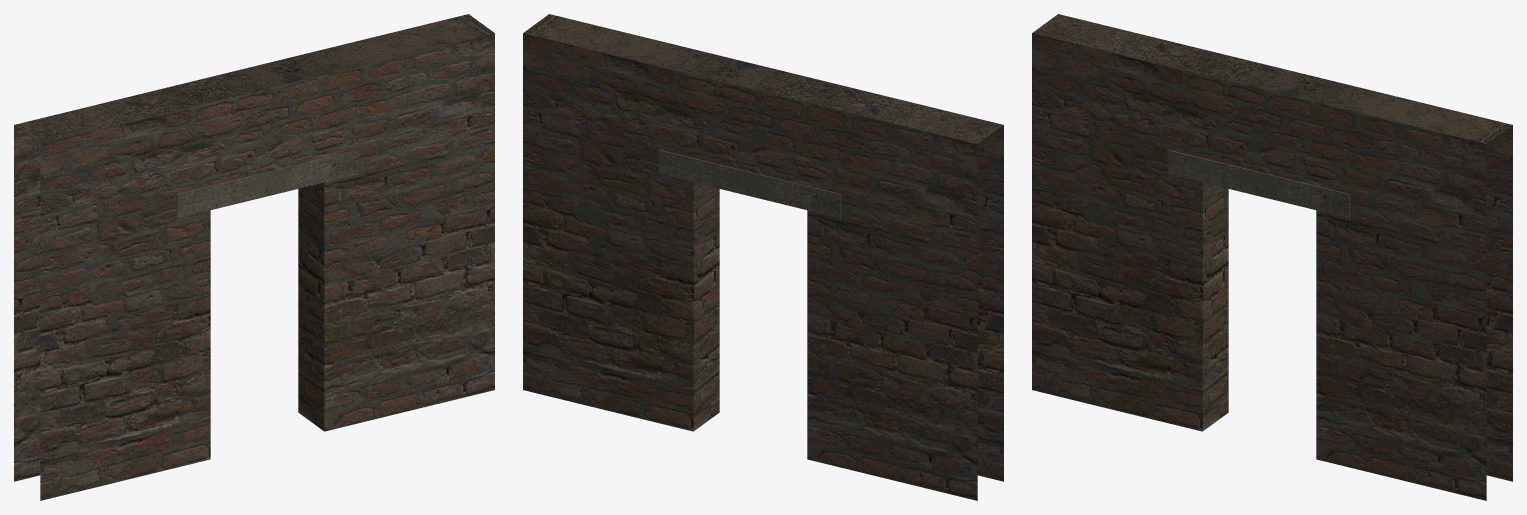
The model's file is doorway_hr_2_regular.obj.
3 renders of one model, left to right at view 1: azimuth 30°, elevation 25°; view 2: azimuth 150°, elevation 25°; view 3: azimuth 330°, elevation 25°, orthographic.
Visible parts, largest first — view 1: doorway_hr_2_regular; view 2: doorway_hr_2_regular; view 3: doorway_hr_2_regular.
Part boxes in pixels (left/top/right/bottom): doorway_hr_2_regular: left=14, top=14, right=494, bottom=500; doorway_hr_2_regular: left=523, top=14, right=1003, bottom=500; doorway_hr_2_regular: left=1032, top=14, right=1512, bottom=500.
Bounding box in the file's own units: 4 × 3 × 0.42.
